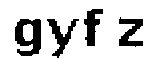f: (81, 7, 104, 52)
g: (7, 16, 46, 59)
y: (45, 15, 81, 59)
z: (117, 14, 150, 51)
